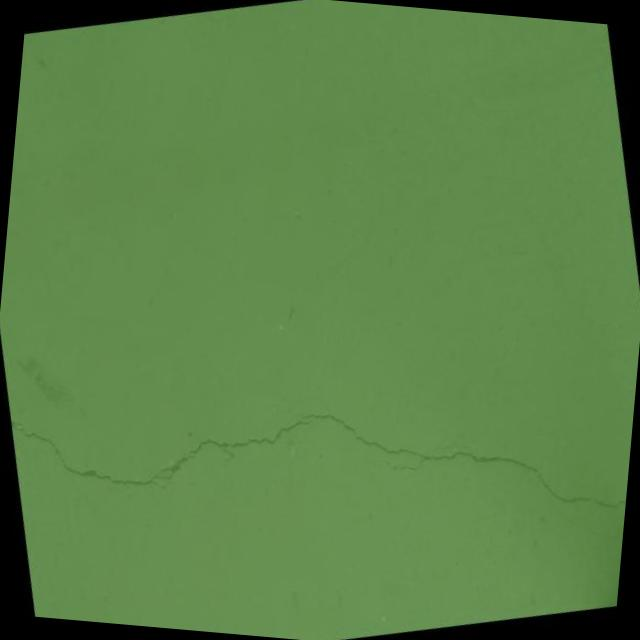crack: (0, 287, 639, 640)
